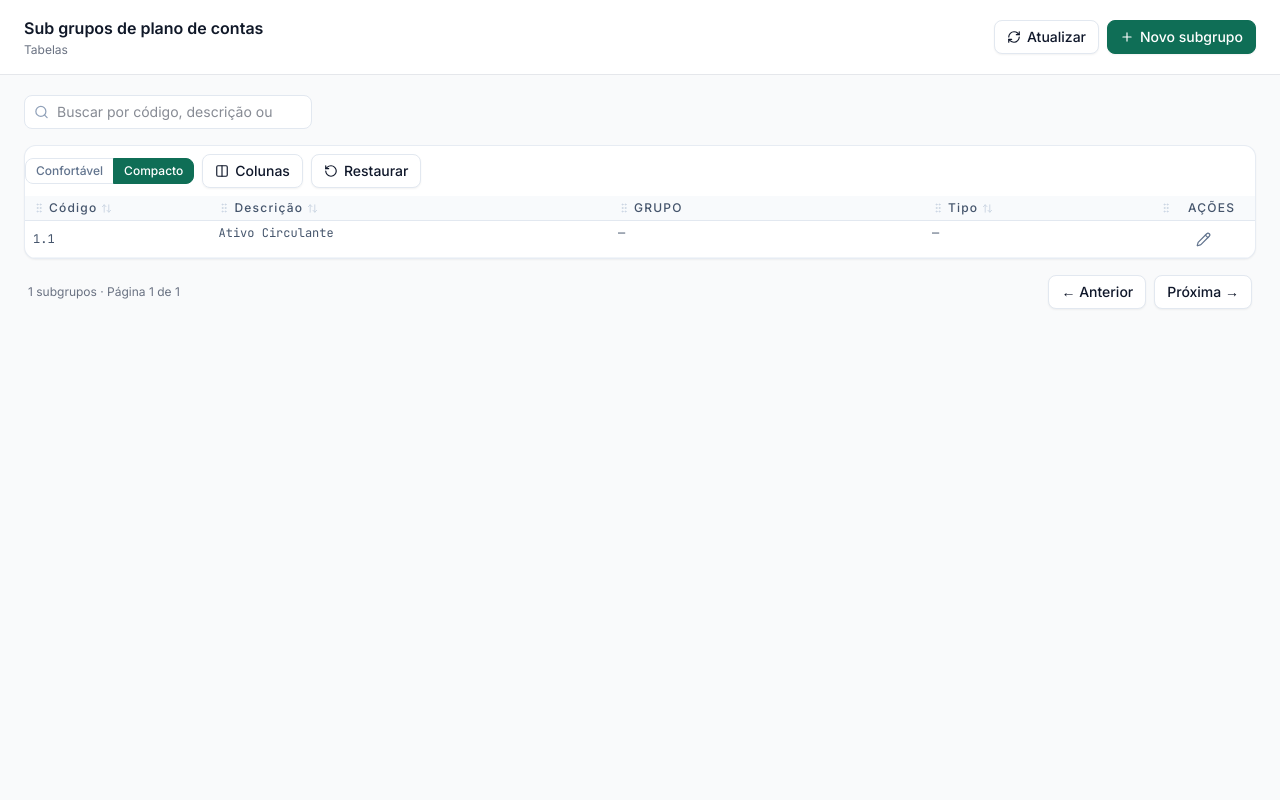
Test: ChartAccountSubgroupsPage › abre o modal ao clicar em "Novo subgrupo"
The image size is (1280, 800).
Check: the text "Ativo Circulante" is shown, box [210, 220, 610, 258]
What coordinates should you click on to do the following:
click the button "Novo subgrupo"
I would click on:
 (1182, 37)
Its box is [1107, 20, 1256, 54].
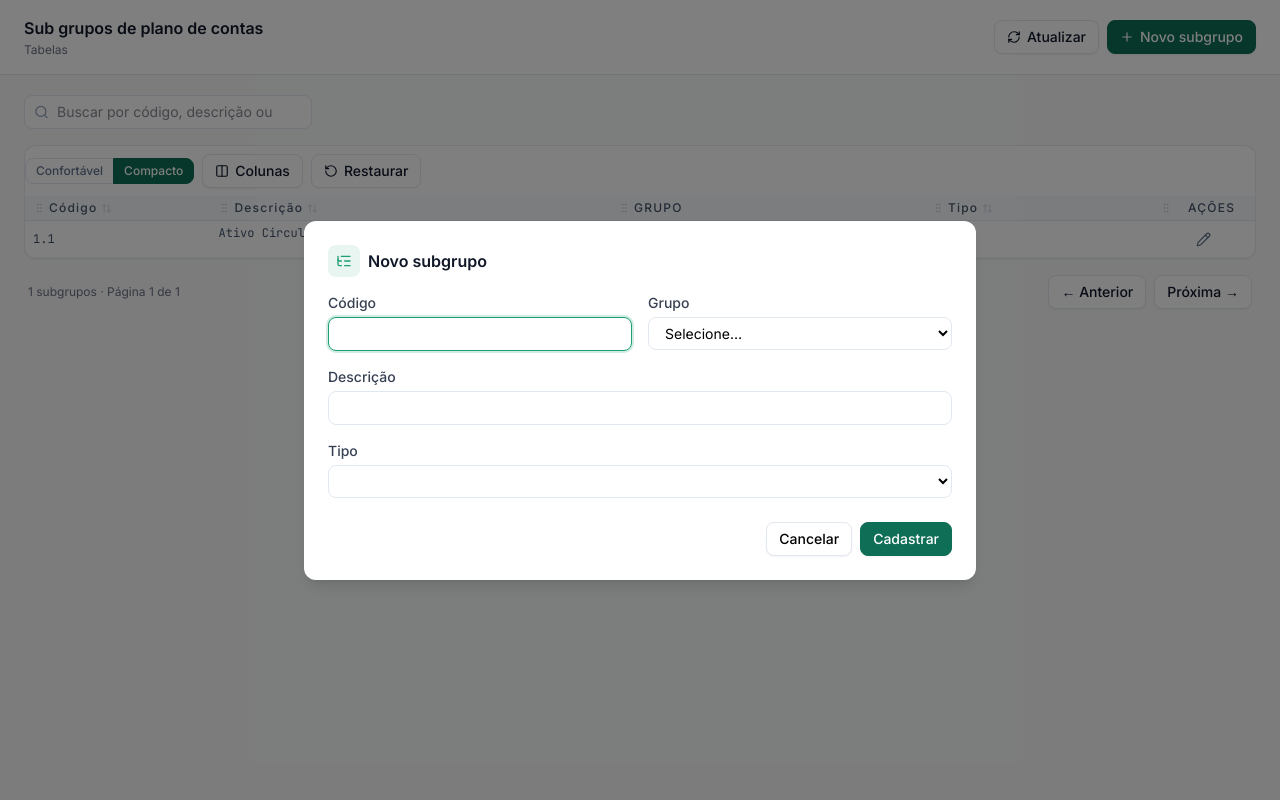
Check: the button "Cadastrar" is shown, box [860, 522, 952, 556]
